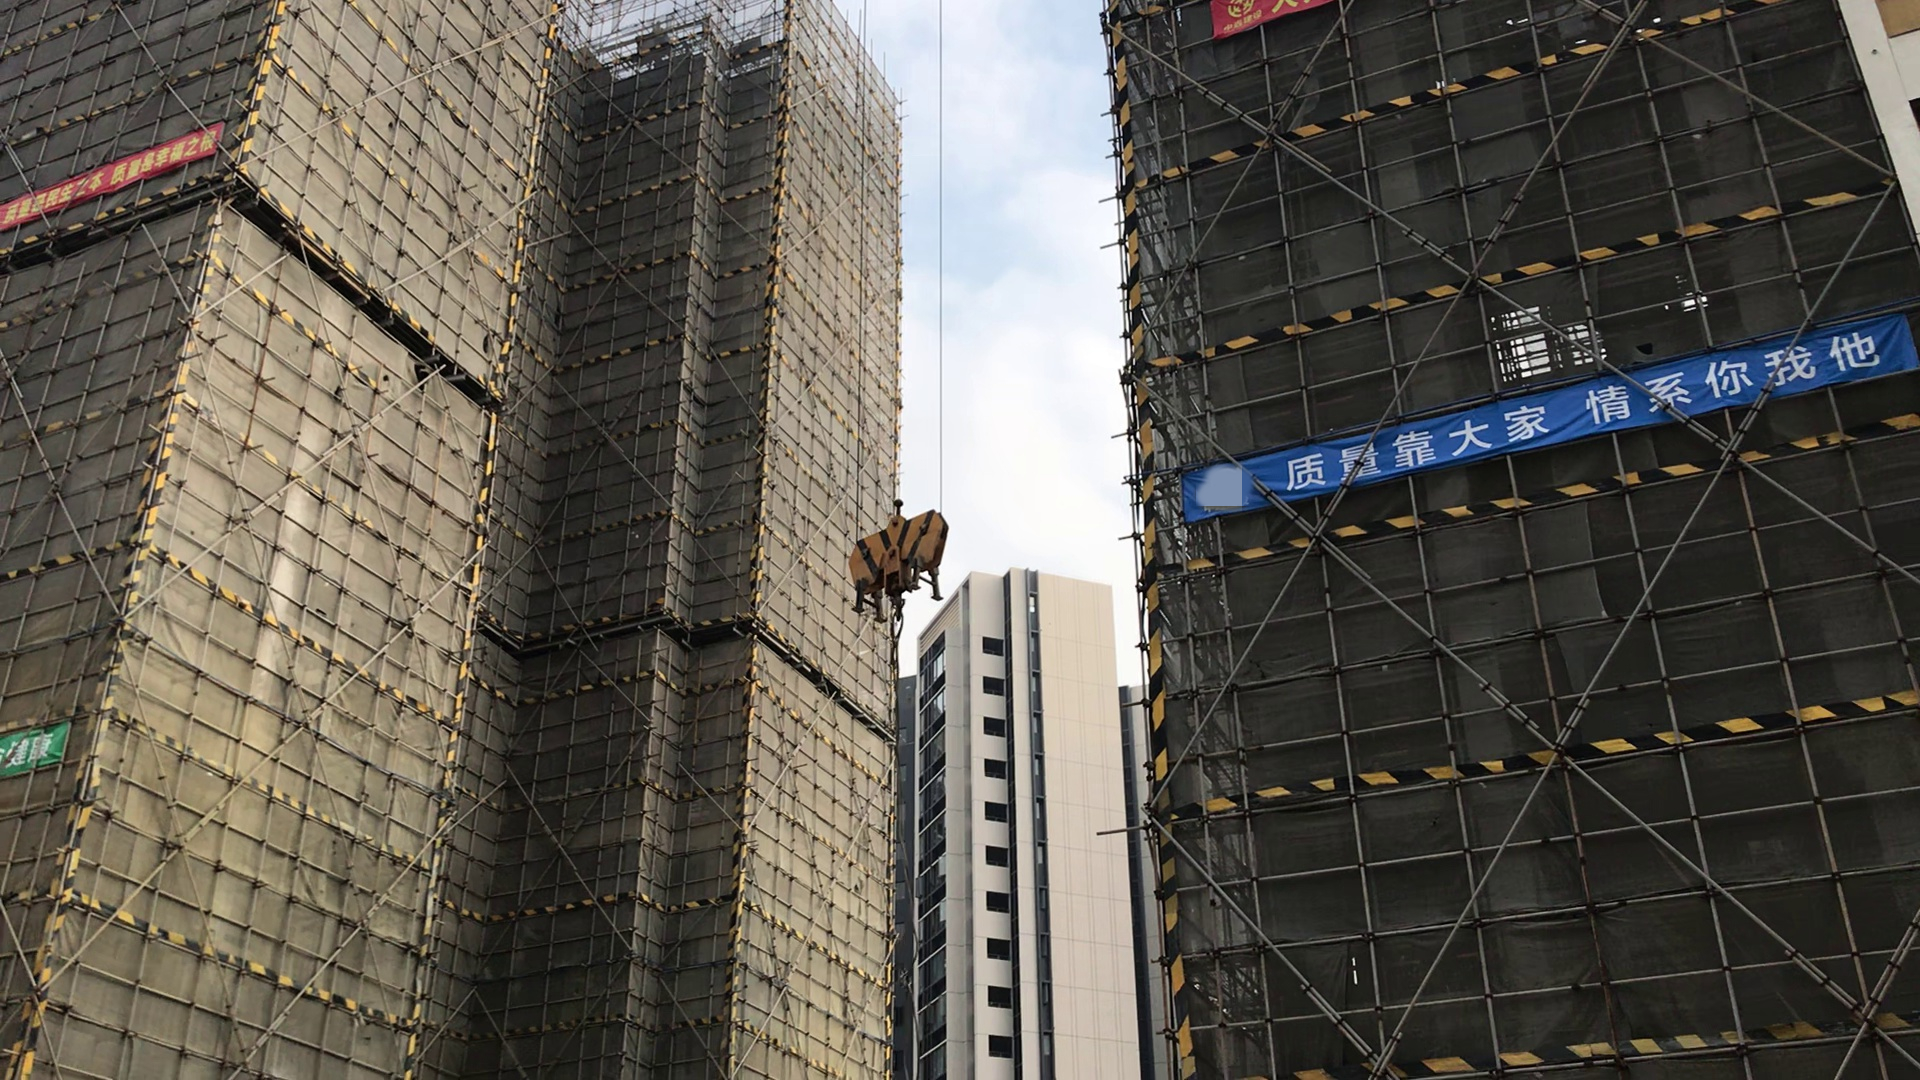hook: (851, 498, 948, 622)
slogan: (1221, 320, 1907, 491), (3, 127, 218, 229), (1218, 1, 1333, 36), (7, 727, 67, 771)
